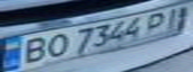3: (90, 21, 115, 54)
4: (121, 15, 151, 44), (106, 18, 130, 48)
7: (69, 26, 97, 59)
B: (12, 35, 54, 66)
I: (157, 4, 193, 32)
O: (36, 30, 72, 61)
P: (139, 9, 175, 37)
